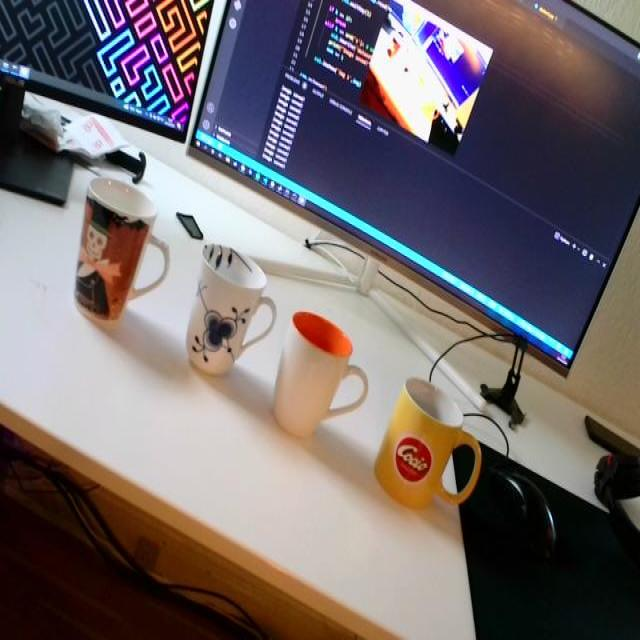cup: (61, 155, 174, 337), (371, 368, 499, 515), (264, 294, 371, 454), (170, 235, 281, 388)
